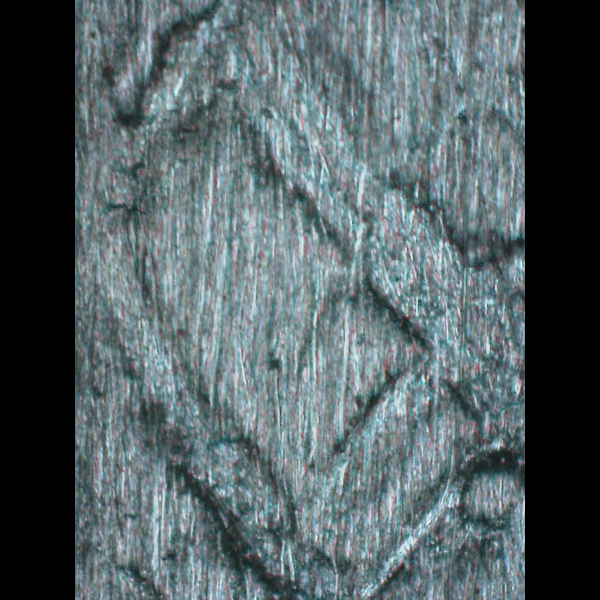d: (116, 7, 519, 599)
